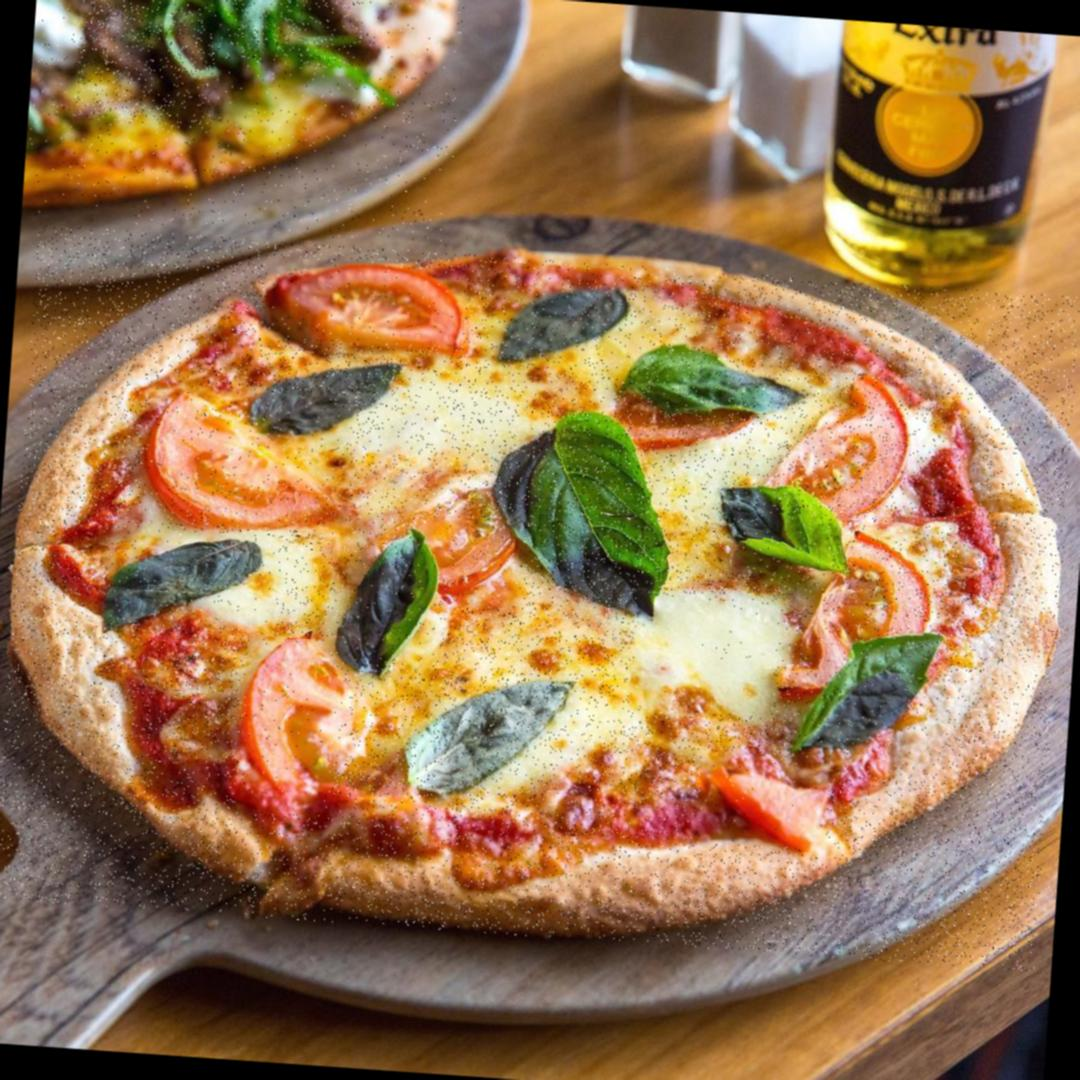Basil: (479, 404, 684, 612), (800, 615, 948, 778), (408, 660, 564, 806), (89, 520, 281, 632), (238, 347, 407, 463), (326, 519, 451, 670), (620, 333, 798, 420), (159, 0, 365, 71), (724, 474, 856, 578), (491, 262, 628, 362)
Cheese: (630, 596, 780, 716), (368, 381, 516, 468), (645, 436, 763, 524)
Ham: (73, 0, 221, 131)
Pizza: (0, 225, 1080, 972), (21, 0, 465, 246)
Tomatoes: (144, 383, 354, 533), (776, 370, 915, 522), (236, 636, 345, 818), (264, 257, 468, 349), (820, 518, 931, 641), (700, 753, 830, 851), (421, 515, 528, 607), (776, 590, 854, 696)
